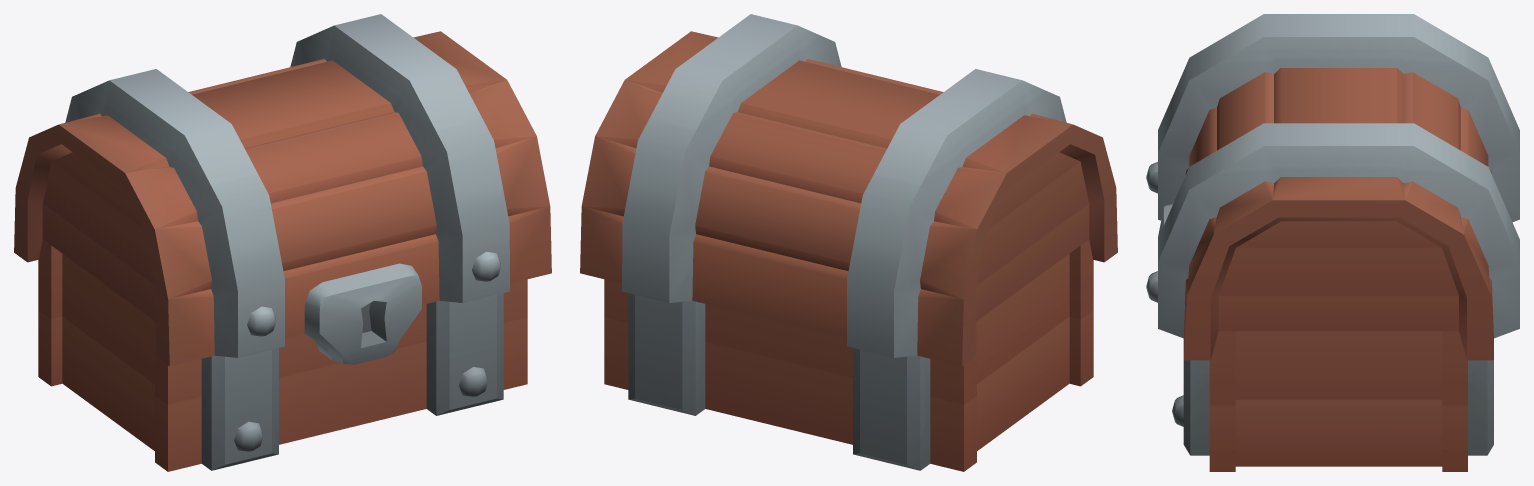
File: chest_gold.glb
3 renders of one model, left to right at view 1: azimuth 30°, elevation 25°; view 2: azimuth 150°, elevation 25°; view 3: azimuth 270°, elevation 25°, orthographic.
Visible parts, largest first — view 1: chest_gold_lid, Cube.14744; view 2: chest_gold_lid, Cube.14744; view 3: chest_gold_lid, Cube.14744.
Part boxes in pixels (bbox=[...]): chest_gold_lid: bbox=[14, 14, 551, 366]; Cube.14744: bbox=[38, 239, 527, 471]; chest_gold_lid: bbox=[580, 14, 1117, 366]; Cube.14744: bbox=[604, 239, 1093, 471]; chest_gold_lid: bbox=[1146, 14, 1519, 360]; Cube.14744: bbox=[1172, 331, 1493, 471].
Bounding box in the file's own units: 1.7 × 1.3 × 1.45.
Materials: 1 (1 with a texture image).
